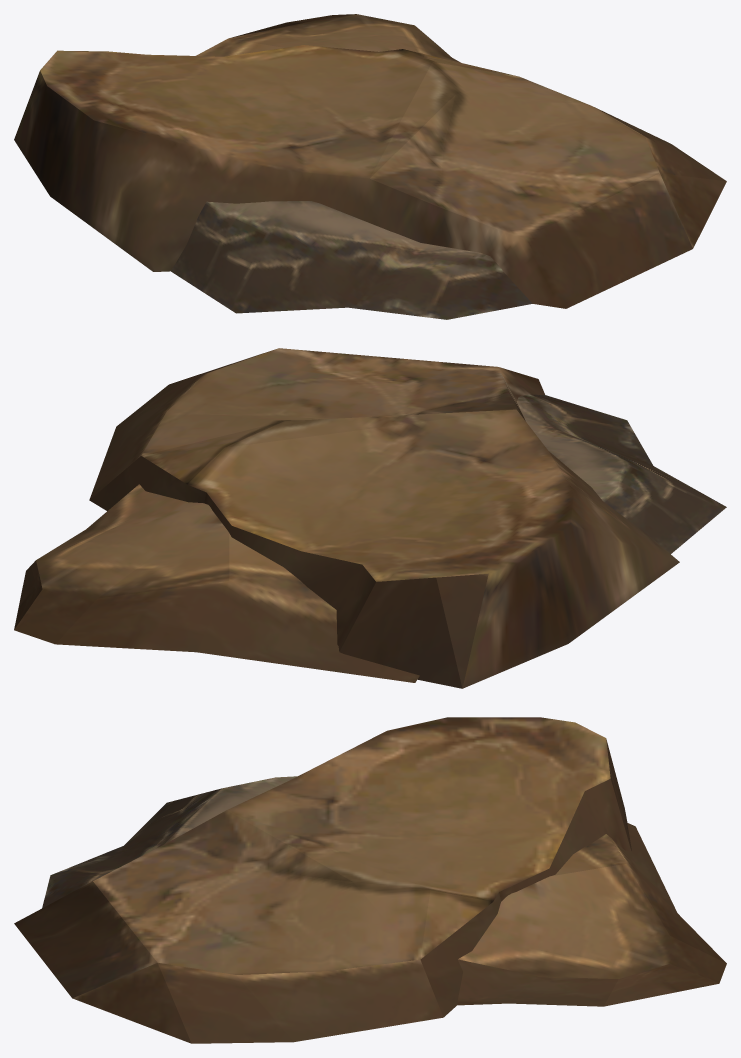
File: D_shikuai004.fbx
3 views of the same model, one above another, from view 1: azimuth 30°, elevation 25°; view 2: azimuth 150°, elevation 25°; view 3: azimuth 270°, elevation 25° (orthographic). The views are drawn at different scales.
Parts seen in each view (by area): view 1: D_shikuai004; view 2: D_shikuai004; view 3: D_shikuai004.
Boxes of the visible parts, x1,y1,x2,y2 form: D_shikuai004: [14, 14, 726, 319]; D_shikuai004: [14, 348, 726, 688]; D_shikuai004: [14, 717, 726, 1043].
Bounding box in the file's own units: 27.88 × 4.47 × 33.55.
